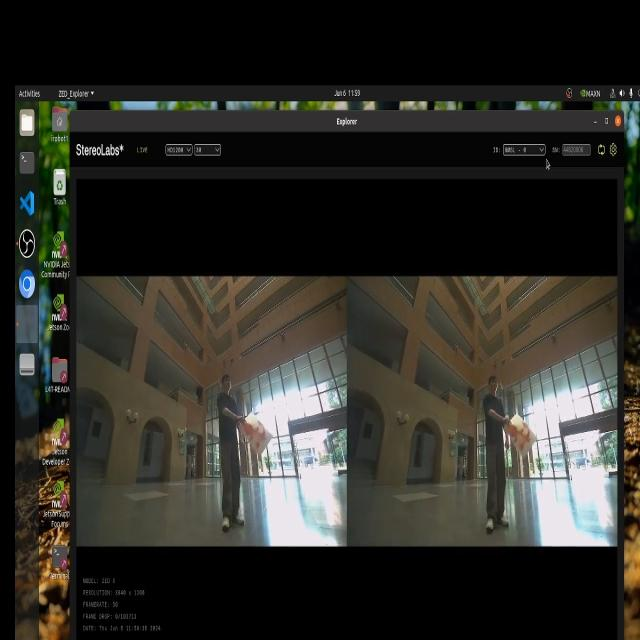red: (237, 414, 269, 468), (502, 410, 532, 452)
